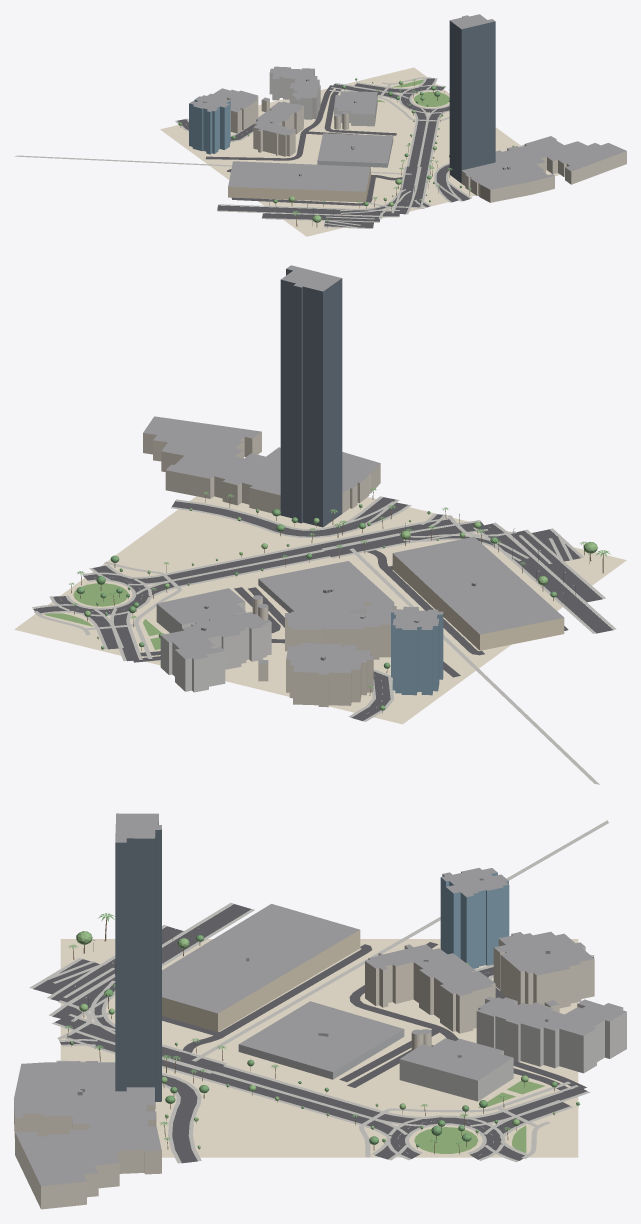
File: tile_-1_5.glb
3 views of the same model, one above another, from view 1: azimuth 30°, elevation 25°; view 2: azimuth 150°, elevation 25°; view 3: azimuth 270°, elevation 25° (orthographic). The views are drawn at different scales.
Visible parts, largest first — view 1: buildings_roof, nature_ground, roads_asphalt, buildings_glass_dark, buildings_concrete_warm, roads_sidewalk, buildings_glass_blue, buildings_sandstone, buildings_concrete_light, nature_grass, buildings_industrial; view 2: buildings_roof, nature_ground, roads_asphalt, buildings_glass_dark, roads_sidewalk, buildings_concrete_warm, buildings_concrete_light, buildings_glass_blue, buildings_sandstone, nature_grass, nature_foliage_a; view 3: buildings_roof, nature_ground, roads_asphalt, buildings_concrete_warm, buildings_glass_dark, roads_sidewalk, buildings_concrete_light, buildings_glass_blue, buildings_sandstone, nature_grass, buildings_industrial, nature_foliage_a (+2 smaller).
Boxes of the visible parts, x1,y1,x2,y2 form: buildings_roof: (189, 14, 626, 191); nature_ground: (160, 67, 560, 236); roads_asphalt: (177, 78, 524, 227); buildings_glass_dark: (449, 17, 495, 183); buildings_concrete_warm: (230, 96, 626, 202); roads_sidewalk: (14, 77, 524, 228); buildings_glass_blue: (189, 98, 230, 154); buildings_sandstone: (228, 167, 370, 202); buildings_concrete_light: (269, 68, 377, 126); nature_grass: (377, 79, 449, 106); buildings_industrial: (317, 137, 393, 167); buildings_roof: (143, 265, 563, 674); nature_ground: (14, 496, 626, 724); roads_asphalt: (33, 497, 613, 721); buildings_glass_dark: (280, 269, 342, 527); roads_sidewalk: (32, 496, 616, 784); buildings_concrete_warm: (143, 432, 396, 707); buildings_concrete_light: (156, 602, 271, 692); buildings_glass_blue: (391, 608, 443, 695); buildings_sandstone: (392, 553, 564, 650); nature_grass: (45, 583, 161, 649); nature_foliage_a: (76, 504, 556, 710); buildings_roof: (14, 813, 626, 1186); nature_ground: (60, 939, 578, 1157); roads_asphalt: (33, 904, 593, 1163); buildings_concrete_warm: (14, 934, 594, 1209); buildings_glass_dark: (115, 822, 161, 1108); roads_sidewalk: (29, 820, 608, 1163); buildings_concrete_light: (399, 999, 626, 1101); buildings_glass_blue: (440, 872, 509, 968); buildings_sandstone: (162, 930, 360, 1031); nature_grass: (414, 1080, 544, 1153); buildings_industrial: (238, 1029, 404, 1079); nature_foliage_a: (70, 935, 579, 1147).
Size of the model in its own units: 445 by 145 by 296.
